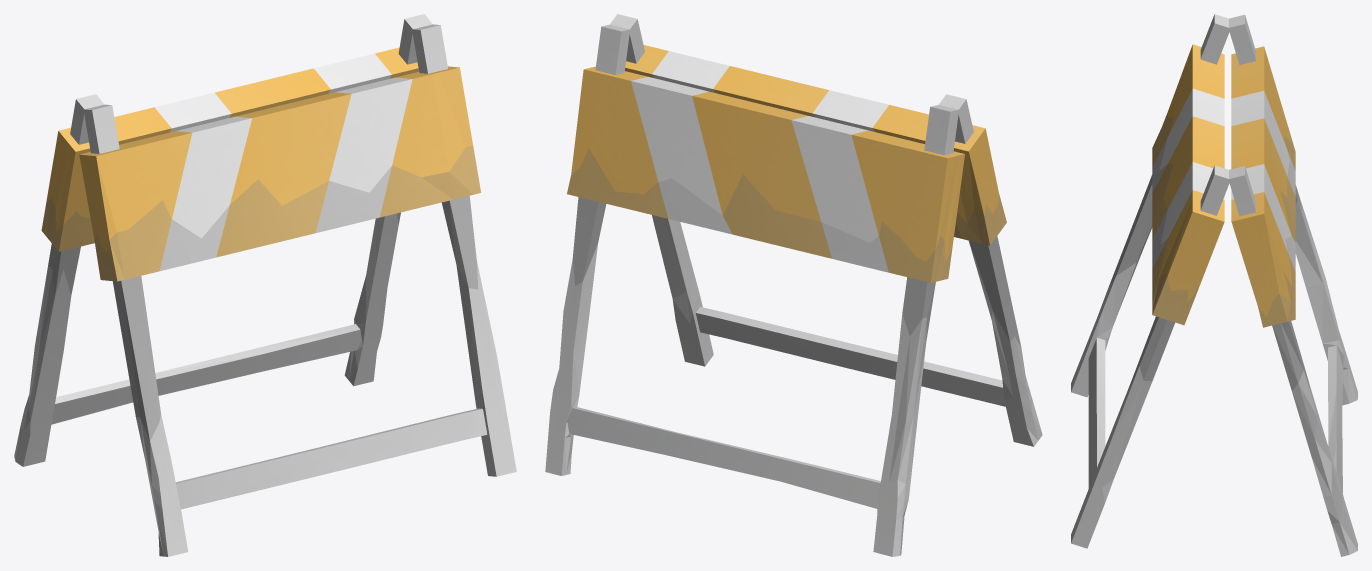
The model's file is road_barrier.fbx.
The picture shows the model from 3 angles, left to right: view 1: azimuth 30°, elevation 25°; view 2: azimuth 150°, elevation 25°; view 3: azimuth 270°, elevation 25°; orthographic projection. The views are drawn at different scales.
Visible parts, largest first — view 1: road_barrier; view 2: road_barrier; view 3: road_barrier.
Boxes of the visible parts, x1,y1,x2,y2 form: road_barrier: (14, 14, 516, 556); road_barrier: (545, 14, 1042, 556); road_barrier: (1071, 14, 1357, 556).
Bounding box in the file's own units: 0.9973 × 1.06 × 0.722.
